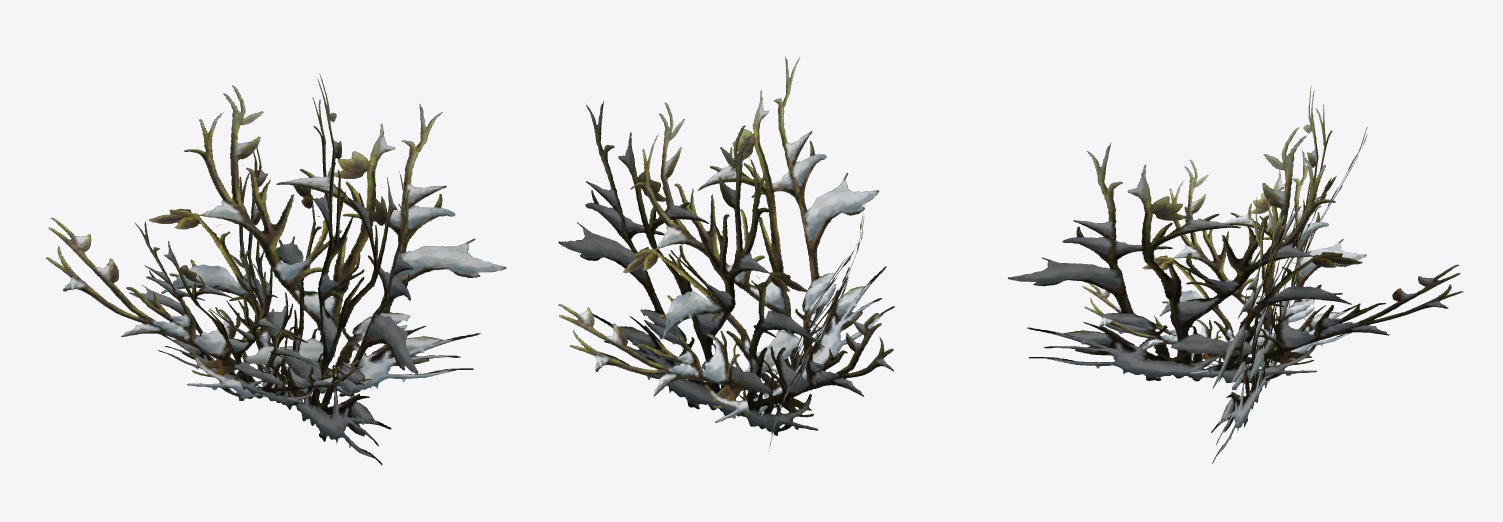
The model's file is 5013_Item_hua_2.FBX.
3 renders of one model, left to right at view 1: azimuth 30°, elevation 25°; view 2: azimuth 150°, elevation 25°; view 3: azimuth 270°, elevation 25°, orthographic. The views are drawn at different scales.
Visible parts, largest first — view 1: 5013_Item_hua_2; view 2: 5013_Item_hua_2; view 3: 5013_Item_hua_2.
Boxes of the visible parts, x1,y1,x2,y2 form: 5013_Item_hua_2: [45, 73, 506, 465]; 5013_Item_hua_2: [558, 56, 894, 451]; 5013_Item_hua_2: [1008, 85, 1463, 463].
Size of the model in its own units: 416 by 305 by 429.
